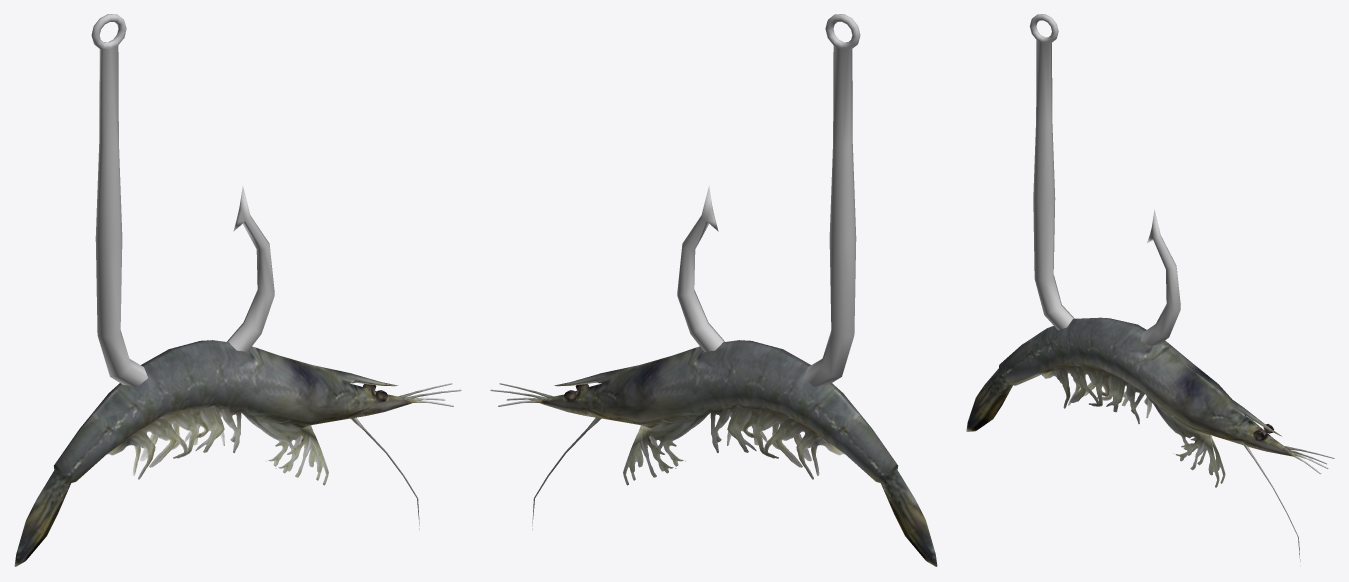
File: Bait_Shrimp.fbx
3 views of the same model, side by side, from view 1: azimuth 30°, elevation 25°; view 2: azimuth 150°, elevation 25°; view 3: azimuth 330°, elevation 25° (orthographic). The views are drawn at different scales.
Visible parts, largest first — view 1: Bait_Shrimp; view 2: Bait_Shrimp; view 3: Bait_Shrimp.
Part boxes in pixels (x1,y1,x2,y2): Bait_Shrimp: [14, 14, 461, 566]; Bait_Shrimp: [490, 14, 937, 566]; Bait_Shrimp: [966, 14, 1334, 565].
Size of the model in its own units: 0.5125 by 0.6597 by 0.0693.
